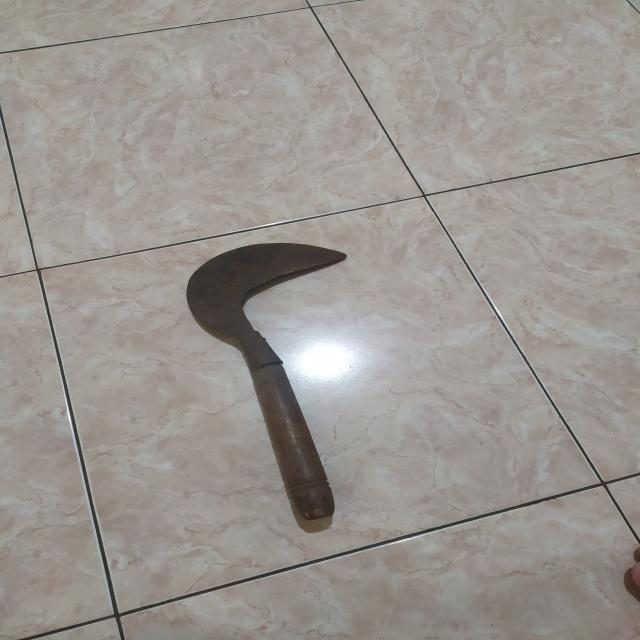Celurit: (187, 241, 349, 527)
